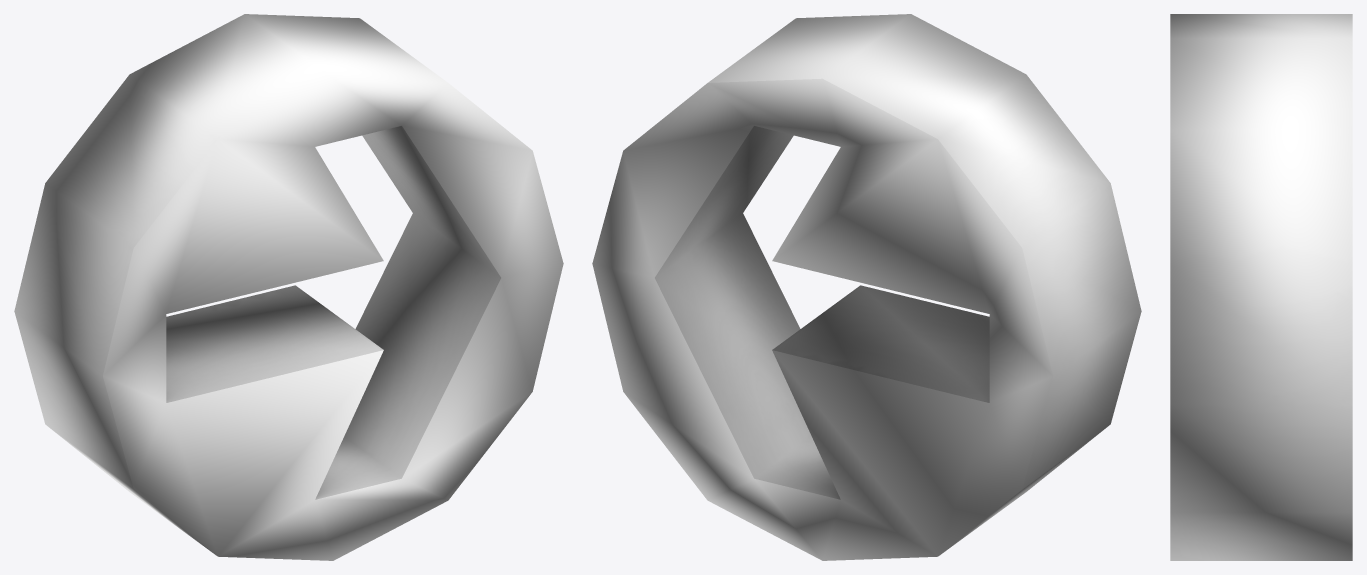
File: Arrow10.fbx
3 views of the same model, side by side, from view 1: azimuth 30°, elevation 25°; view 2: azimuth 150°, elevation 25°; view 3: azimuth 270°, elevation 25° (orthographic). The views are drawn at different scales.
Parts seen in each view (by area): view 1: Arrow10; view 2: Arrow10; view 3: Arrow10.
Boxes of the visible parts, x1,y1,x2,y2 form: Arrow10: [14, 14, 563, 560]; Arrow10: [592, 14, 1141, 560]; Arrow10: [1170, 14, 1352, 560].
Bounding box in the file's own units: 5 × 5 × 1.66.
